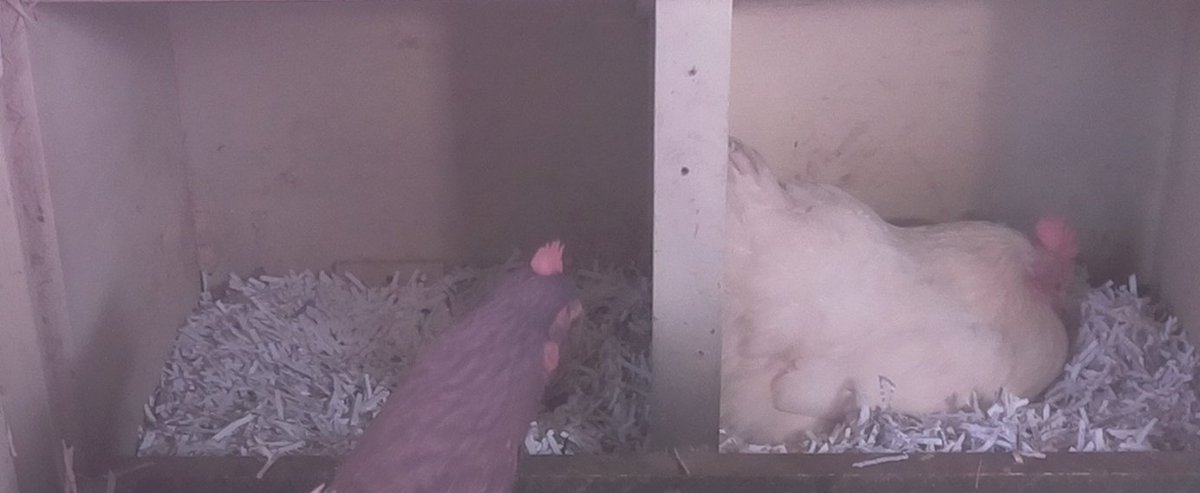hen: (729, 127, 1093, 449), (329, 237, 588, 493)
